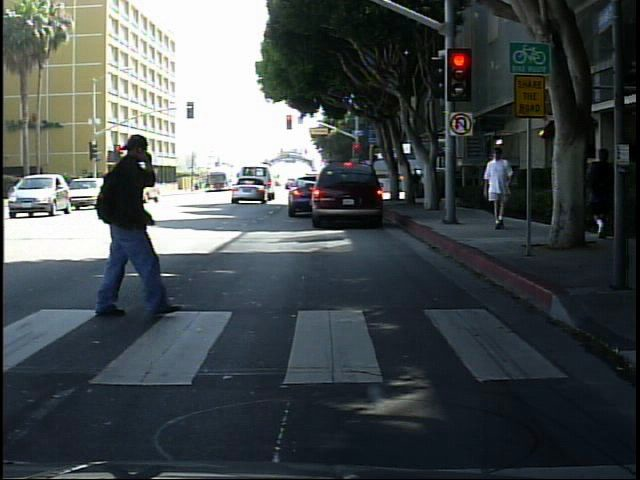person: (70, 127, 182, 341), (588, 137, 621, 246), (480, 145, 519, 237)
